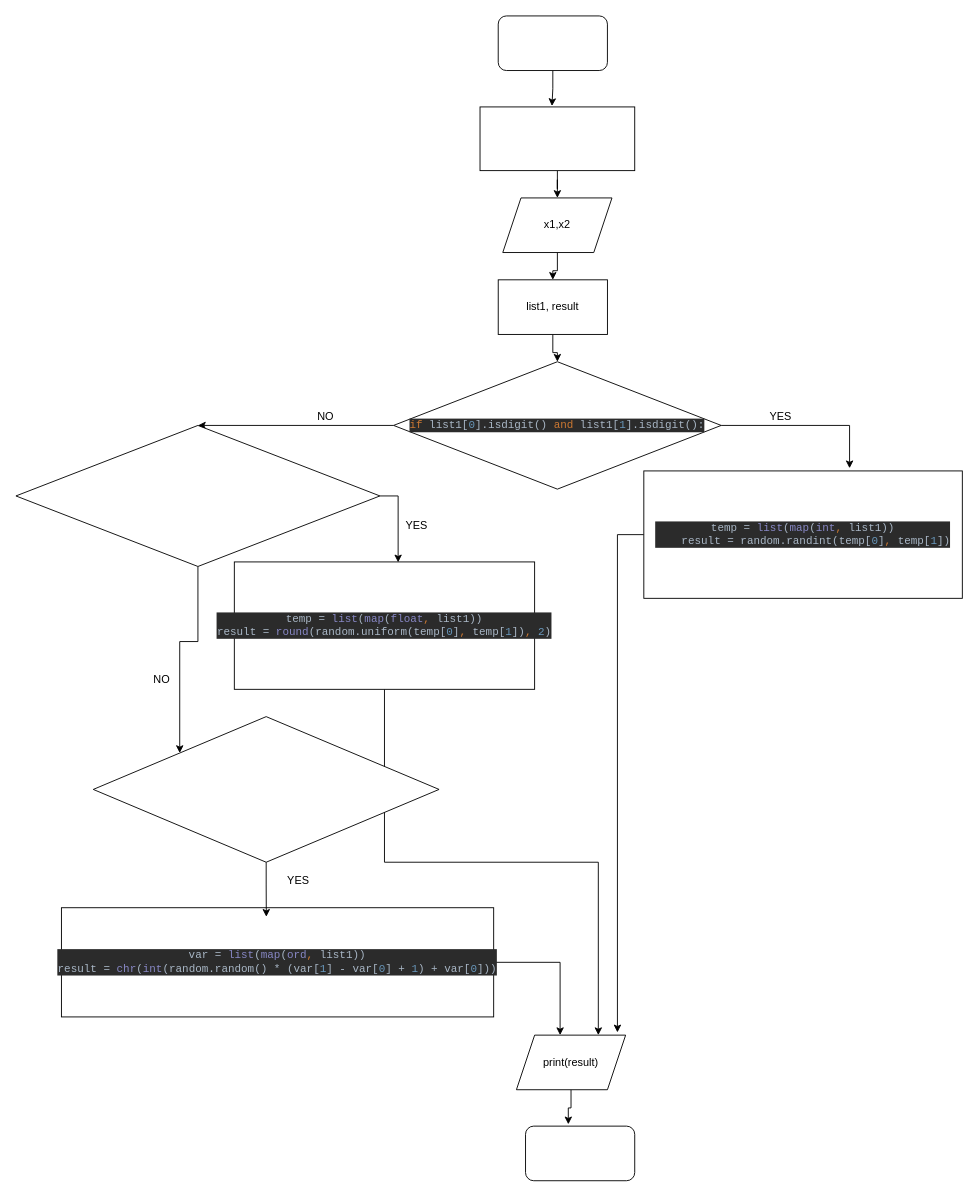
Some shapes in this 978 by 1197 pixel diagram are drawn without their labels. The shapes that lost their labels are listed below. From the top down, each one's box as (x1, y1, x2, y2) in pixels, then its label:
(479, 106, 635, 171): import random def is_float (a)
(15, 425, 380, 566): elif is_float(list1[ 0 ]) and is_float(list1[ 1 ]):
(92, 716, 439, 862): elif list1[ 0 ].isalpha() and list1[ 1 ].isalpha():
